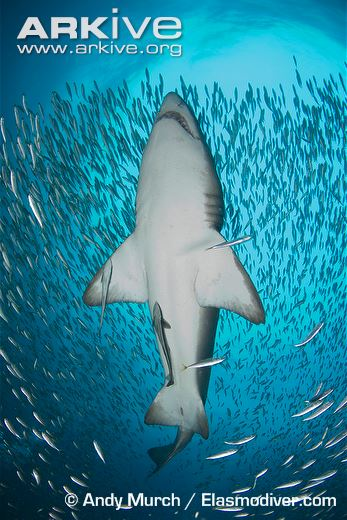shark: (67, 75, 274, 482)
